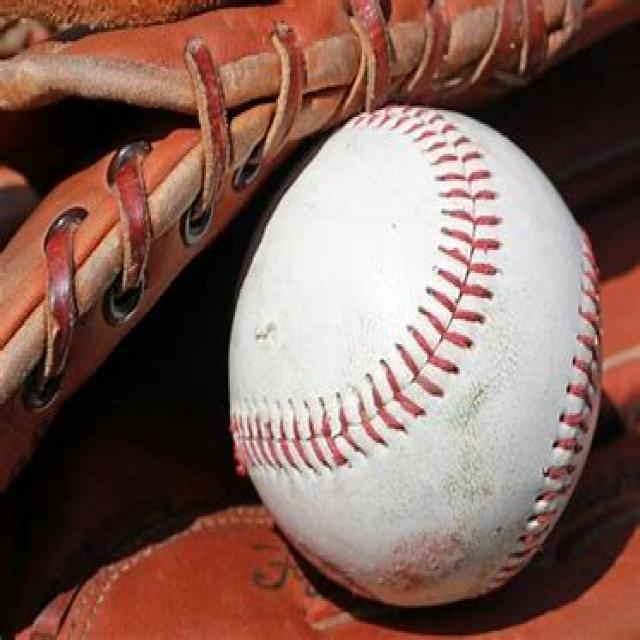ball: (226, 102, 610, 617)
